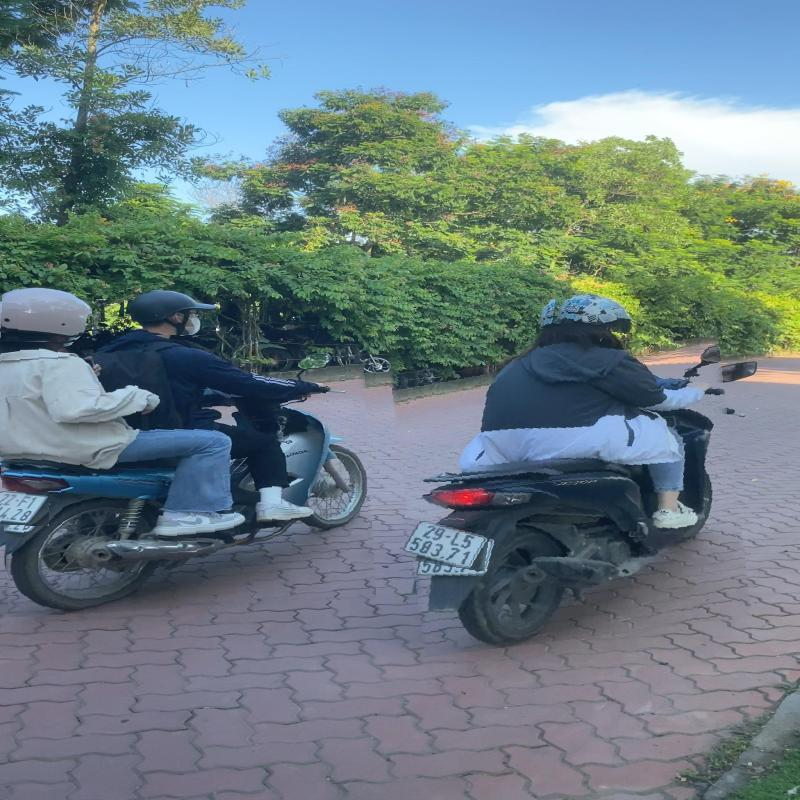helmet: (1, 284, 92, 342), (123, 288, 216, 335), (553, 292, 639, 332)
licenseplate: (401, 521, 489, 568), (0, 491, 49, 526)
motorcyclist: (393, 284, 743, 648), (0, 279, 372, 612)
